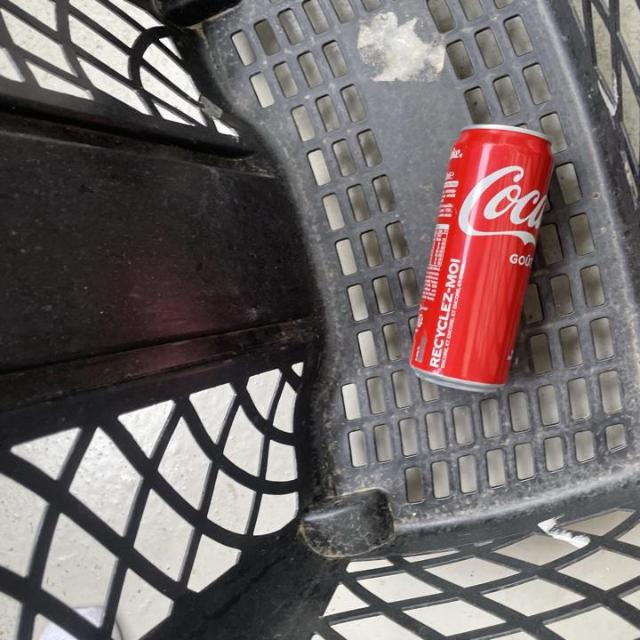can: (406, 115, 560, 402)
